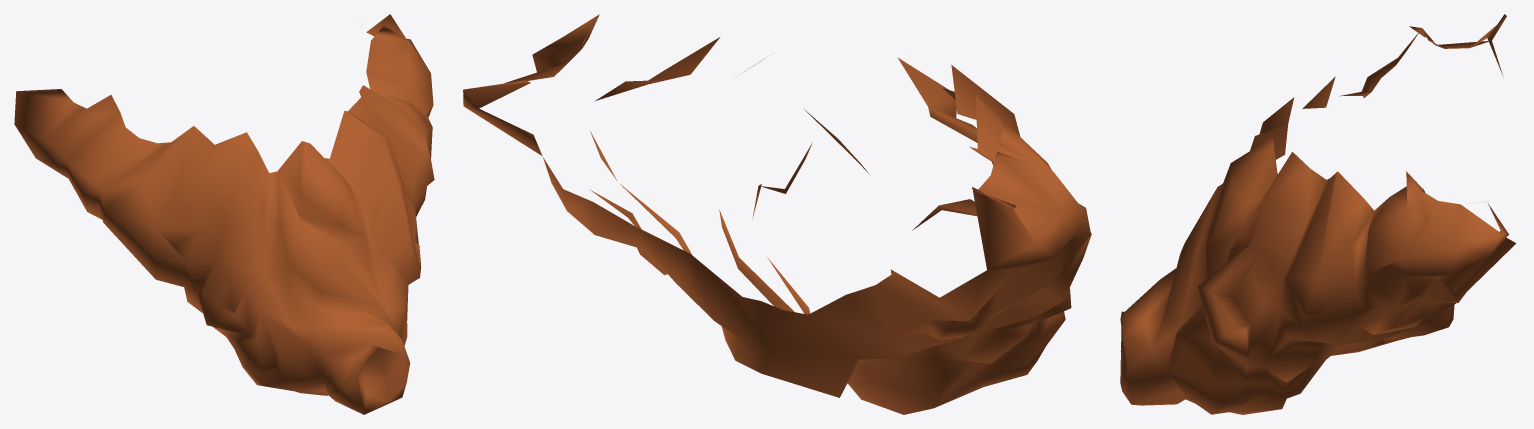
The picture shows the model from 3 angles, left to right: view 1: azimuth 30°, elevation 25°; view 2: azimuth 150°, elevation 25°; view 3: azimuth 270°, elevation 25°; orthographic projection. The views are drawn at different scales.
Visible parts, largest first — view 1: Wolf3D_Beard.008; view 2: Wolf3D_Beard.008; view 3: Wolf3D_Beard.008.
Part boxes in pixels (box(x1,y1,x2,y2)): Wolf3D_Beard.008: box(14, 14, 434, 414); Wolf3D_Beard.008: box(463, 14, 1091, 414); Wolf3D_Beard.008: box(1120, 14, 1516, 414).
Size of the model in its own units: 0.1248 by 0.0849 by 0.0993.
Materials: 1 (1 with a texture image).
